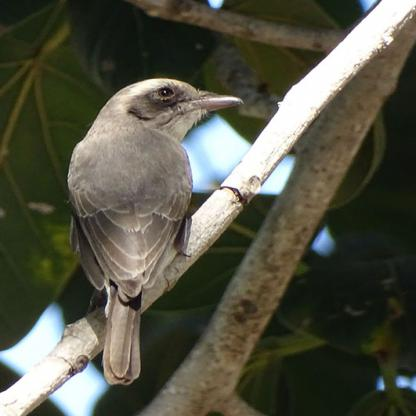Burung: (66, 77, 243, 384)
